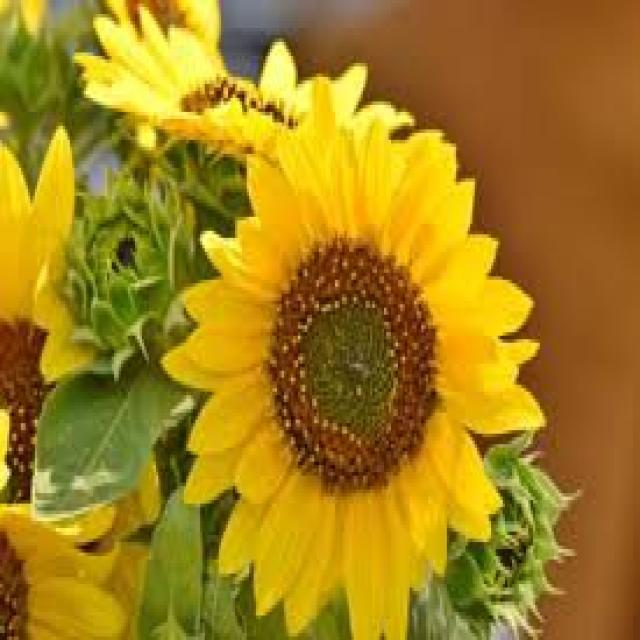sunflower: (152, 70, 550, 640)
